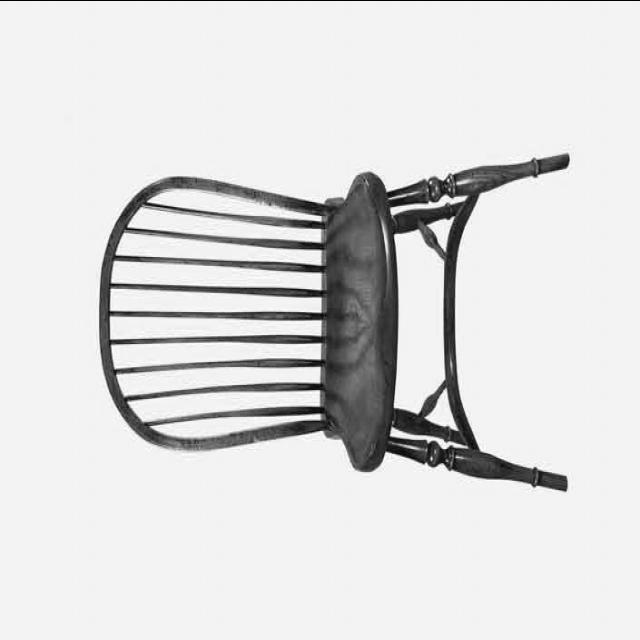chair: (98, 150, 570, 493)
